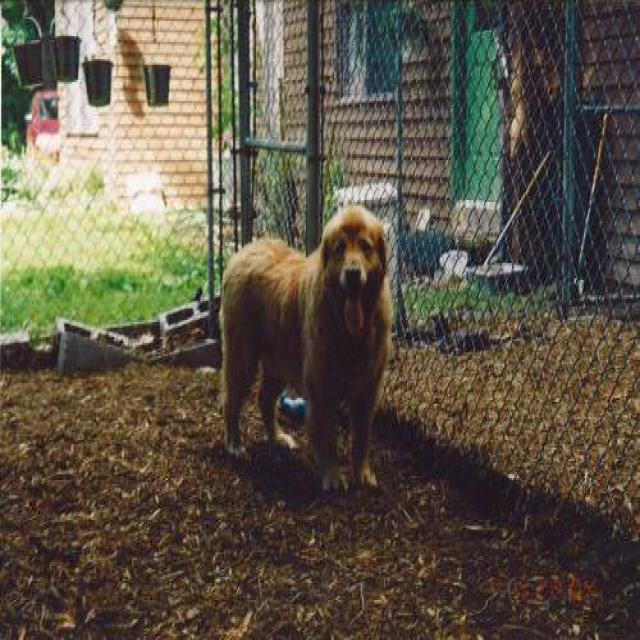dog: (218, 202, 393, 493)
